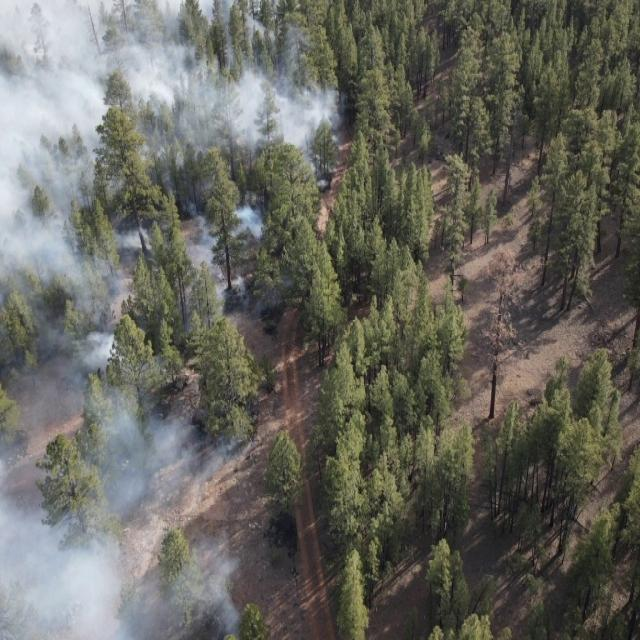fire: (148, 383, 161, 399)
smoke: (0, 2, 346, 156), (0, 300, 242, 511), (0, 511, 241, 640), (0, 155, 128, 303), (124, 156, 272, 266), (194, 264, 294, 318)
